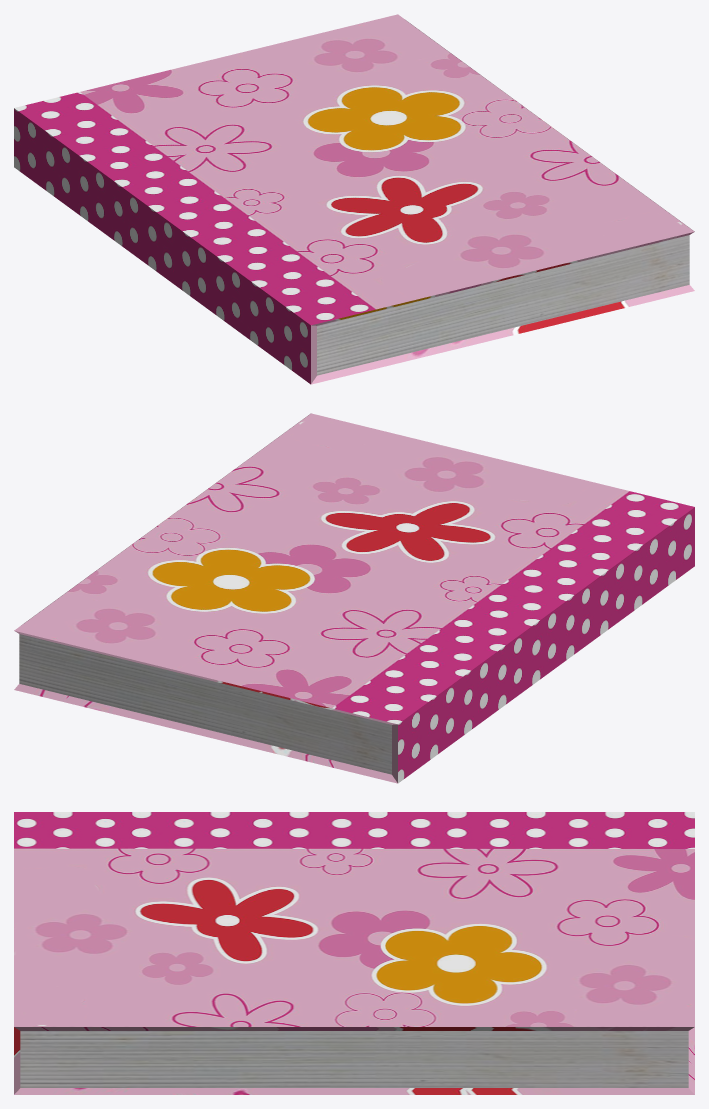
The model's file is Notebook.FBX.
The picture shows the model from 3 angles, top to bottom: view 1: azimuth 30°, elevation 25°; view 2: azimuth 150°, elevation 25°; view 3: azimuth 270°, elevation 25°; orthographic projection. The views are drawn at different scales.
Parts seen in each view (by area): view 1: notebook; view 2: notebook; view 3: notebook.
Part boxes in pixels (x1,y1,x2,y2): notebook: (14,14,694,384); notebook: (14,413,694,783); notebook: (14,812,694,1094).
Size of the model in its own units: 4.2 by 0.6187 by 5.62.
1 material, 1 textured.
